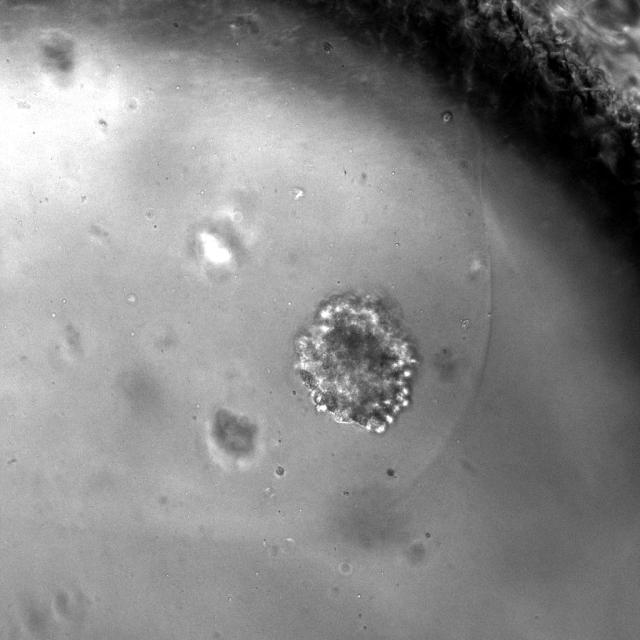organoid: (295, 293, 417, 433)
